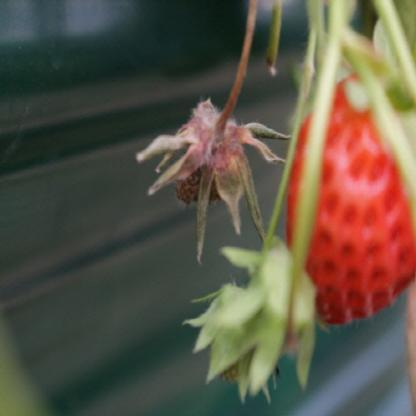Strawberry_Gray_Mold: (134, 94, 294, 266)
